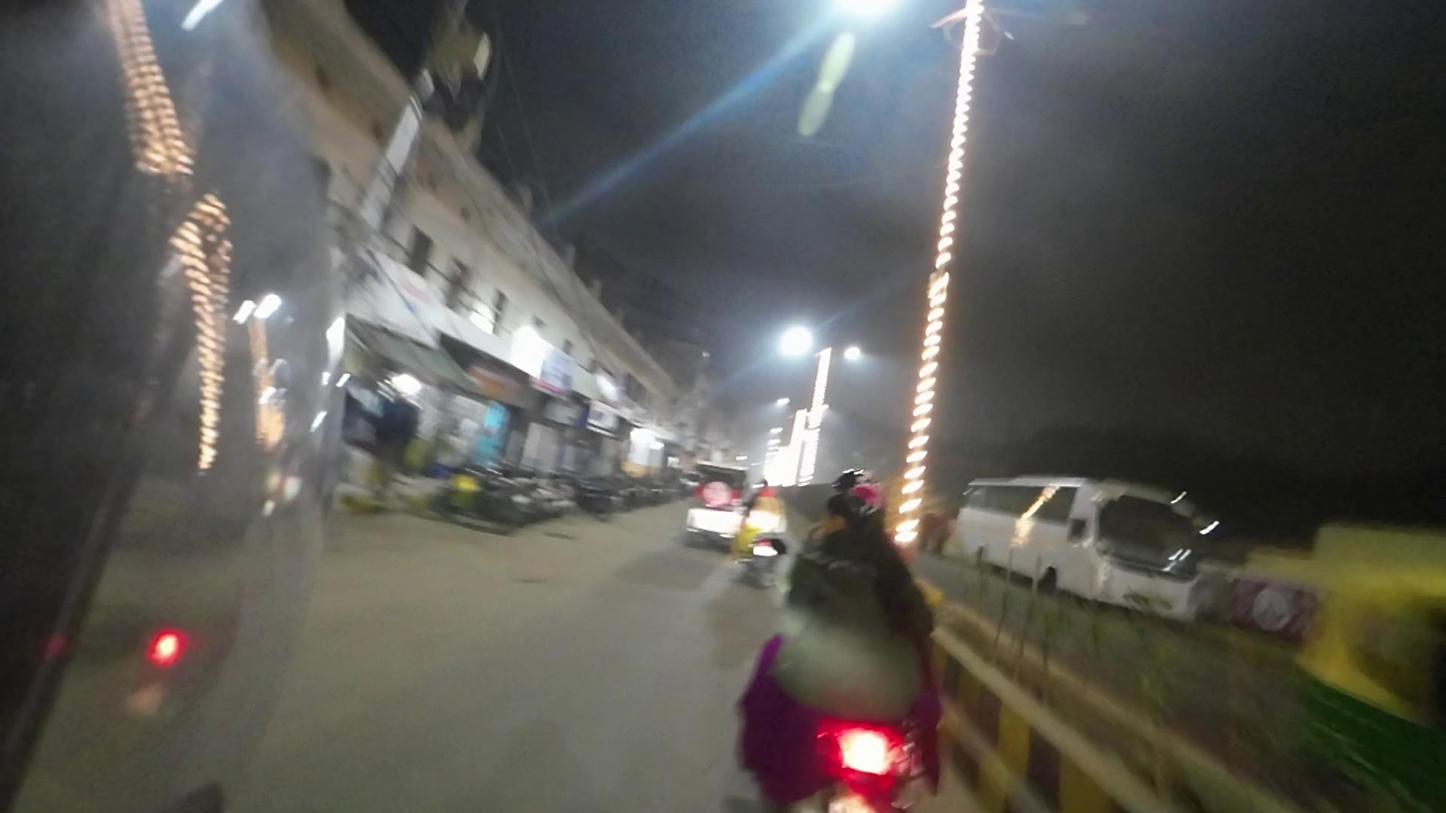streetlight: (1002, 1, 1092, 32)
